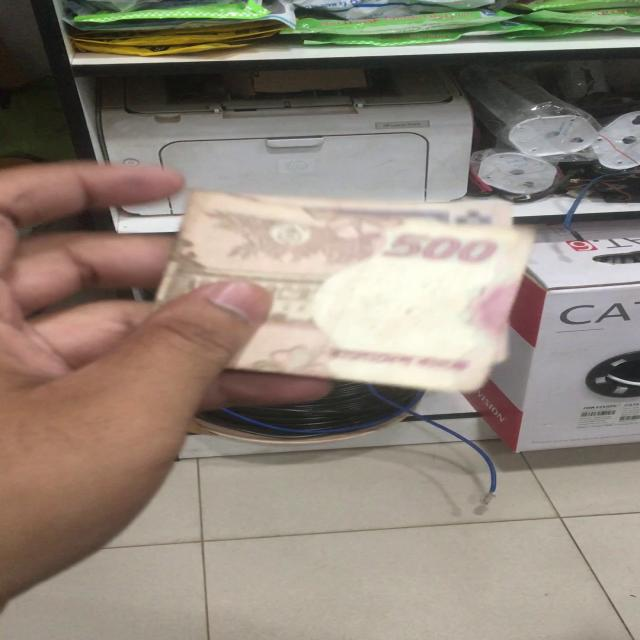Taka: (164, 194, 504, 390)
